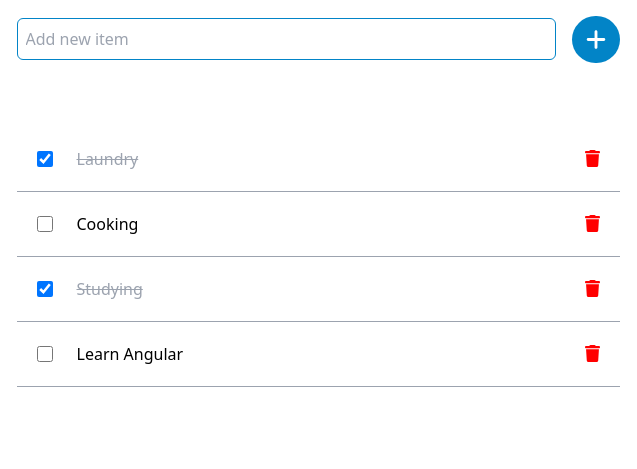
Scenario: Add todo item › should add a new todo item
This screenshot has width=637, height=469.
Type "Test add item 101" into the field with placeholder "Add new item".
click(287, 39); type("Test add item 101")  # box [17,18,556,60]
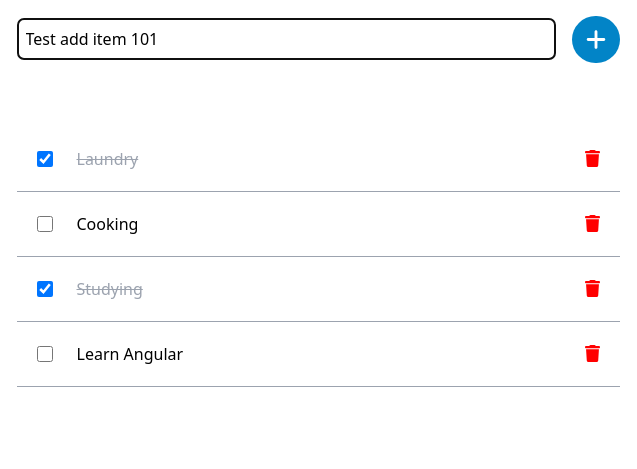
Click the button with test id "addTodoItem".
click(596, 40)  # box [572,16,620,63]
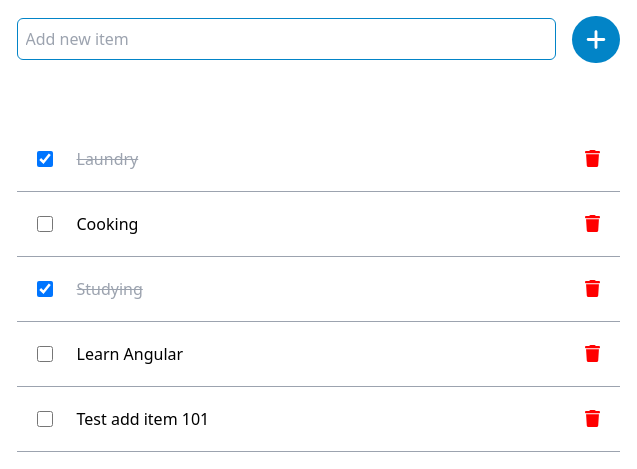
Check: the element with test id "todoItem" reads "Test add item 101", box [17,387,620,452]
